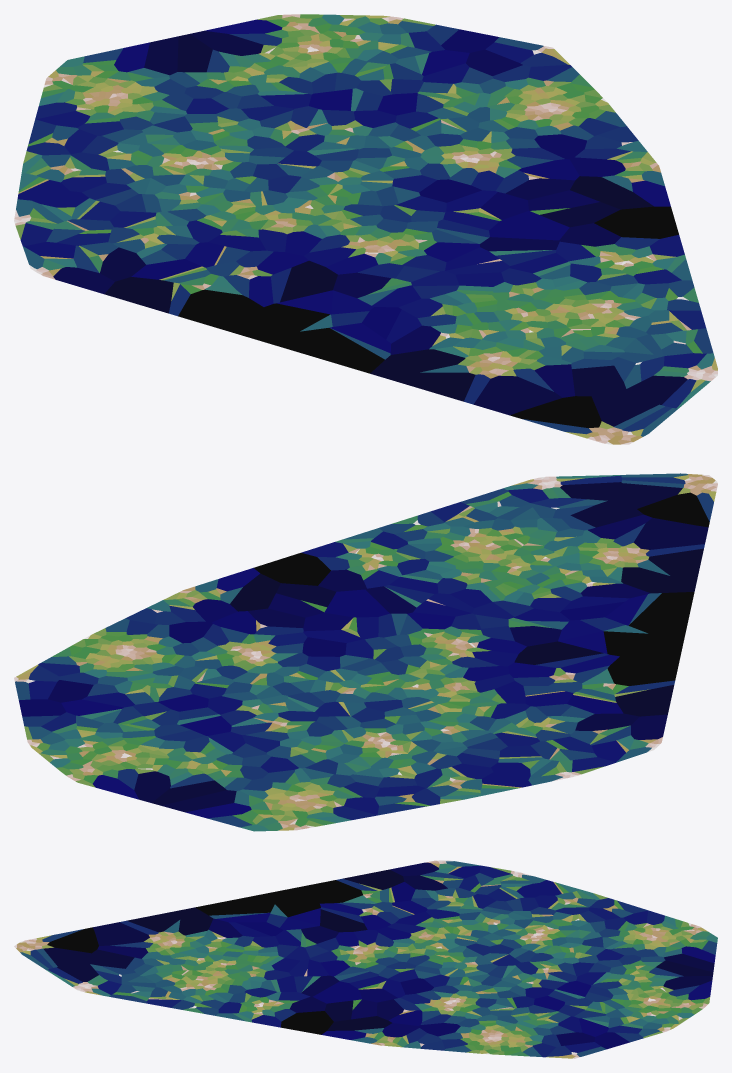
Rendered from 'tsne2_voronoi.gltf.
3 renders of one model, top to bottom at view 1: azimuth 30°, elevation 25°; view 2: azimuth 150°, elevation 25°; view 3: azimuth 270°, elevation 25°, orthographic. The views are drawn at different scales.
Parts seen in each view (by area): view 1: Renderer Node; view 2: Renderer Node; view 3: Renderer Node.
Boxes of the visible parts, <box> form: Renderer Node: <box>14,14,717,444</box>; Renderer Node: <box>14,473,717,831</box>; Renderer Node: <box>14,860,717,1058</box>.
Size of the model in its own units: 75.67 by 0 by 113.
Materials: 1 (1 with a texture image).
